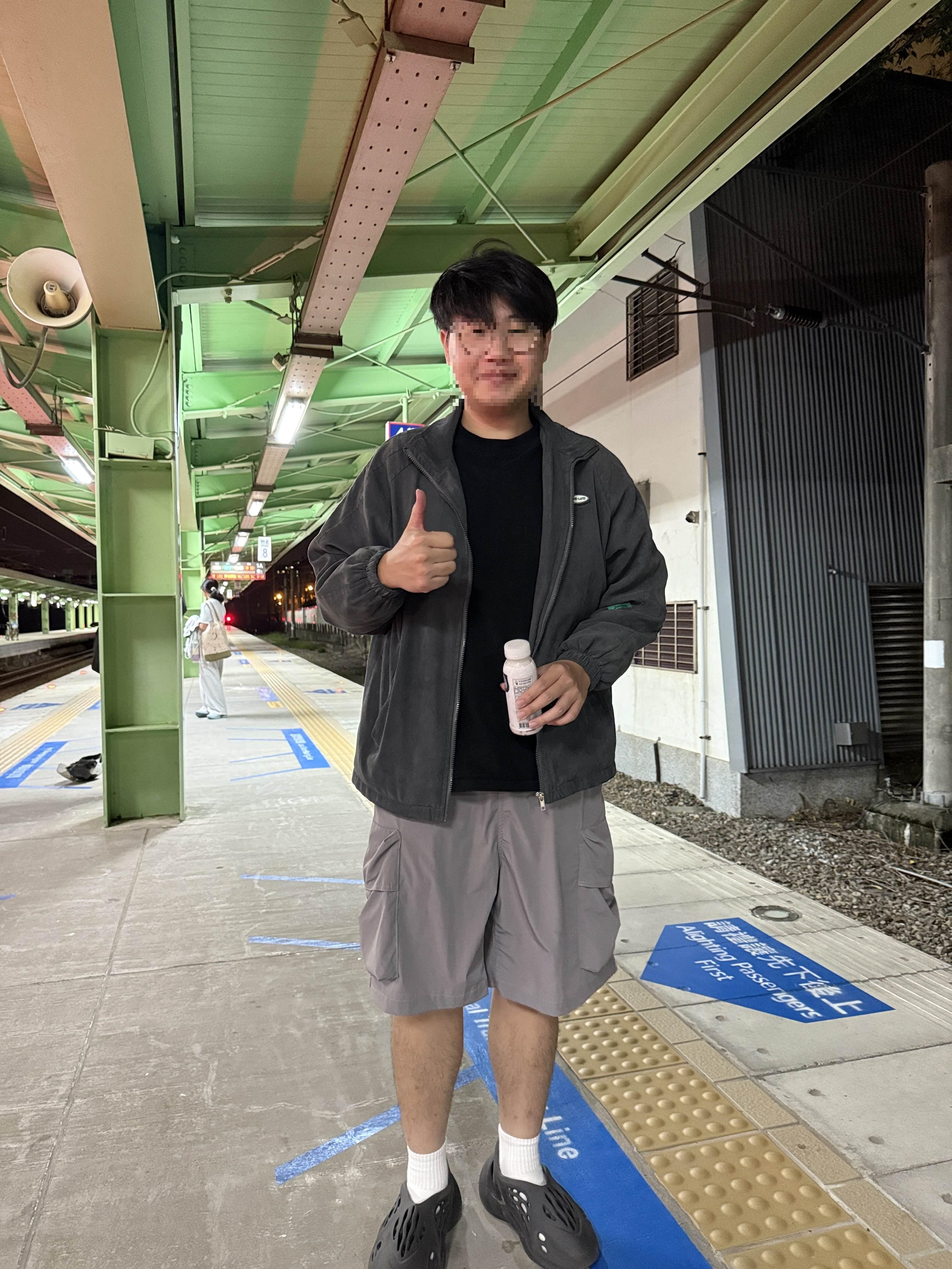NoHelmet: (430, 250, 560, 404)
NoVest: (376, 423, 612, 790)
